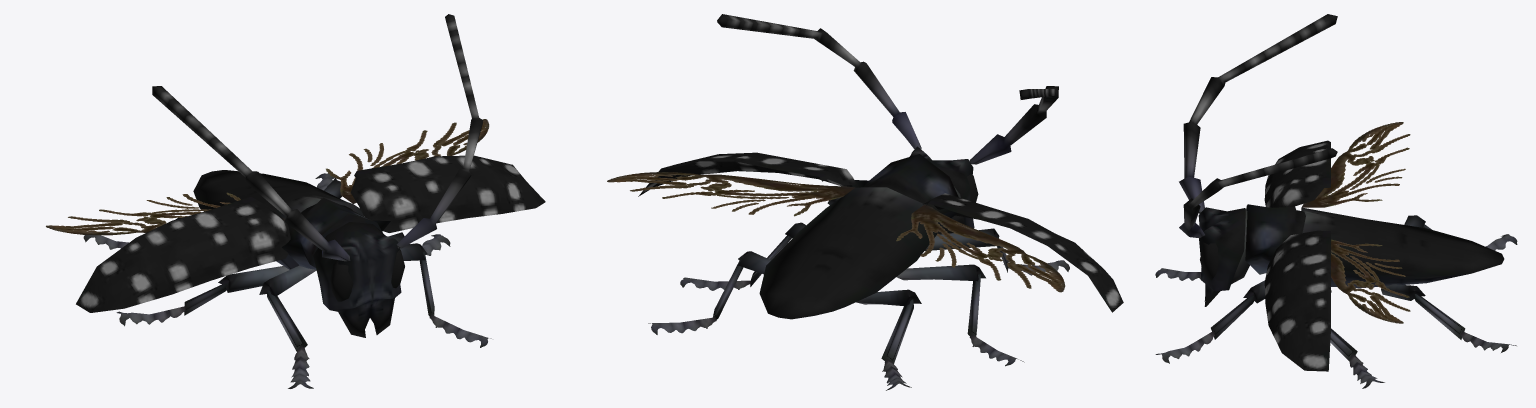
The model's file is citrus-long-horned-beetle.glb.
The picture shows the model from 3 angles, left to right: view 1: azimuth 30°, elevation 25°; view 2: azimuth 150°, elevation 25°; view 3: azimuth 270°, elevation 25°; orthographic projection. The views are drawn at different scales.
Size of the model in its own units: 4.32 by 2.07 by 2.92.
Materials: 2 (2 with a texture image).
